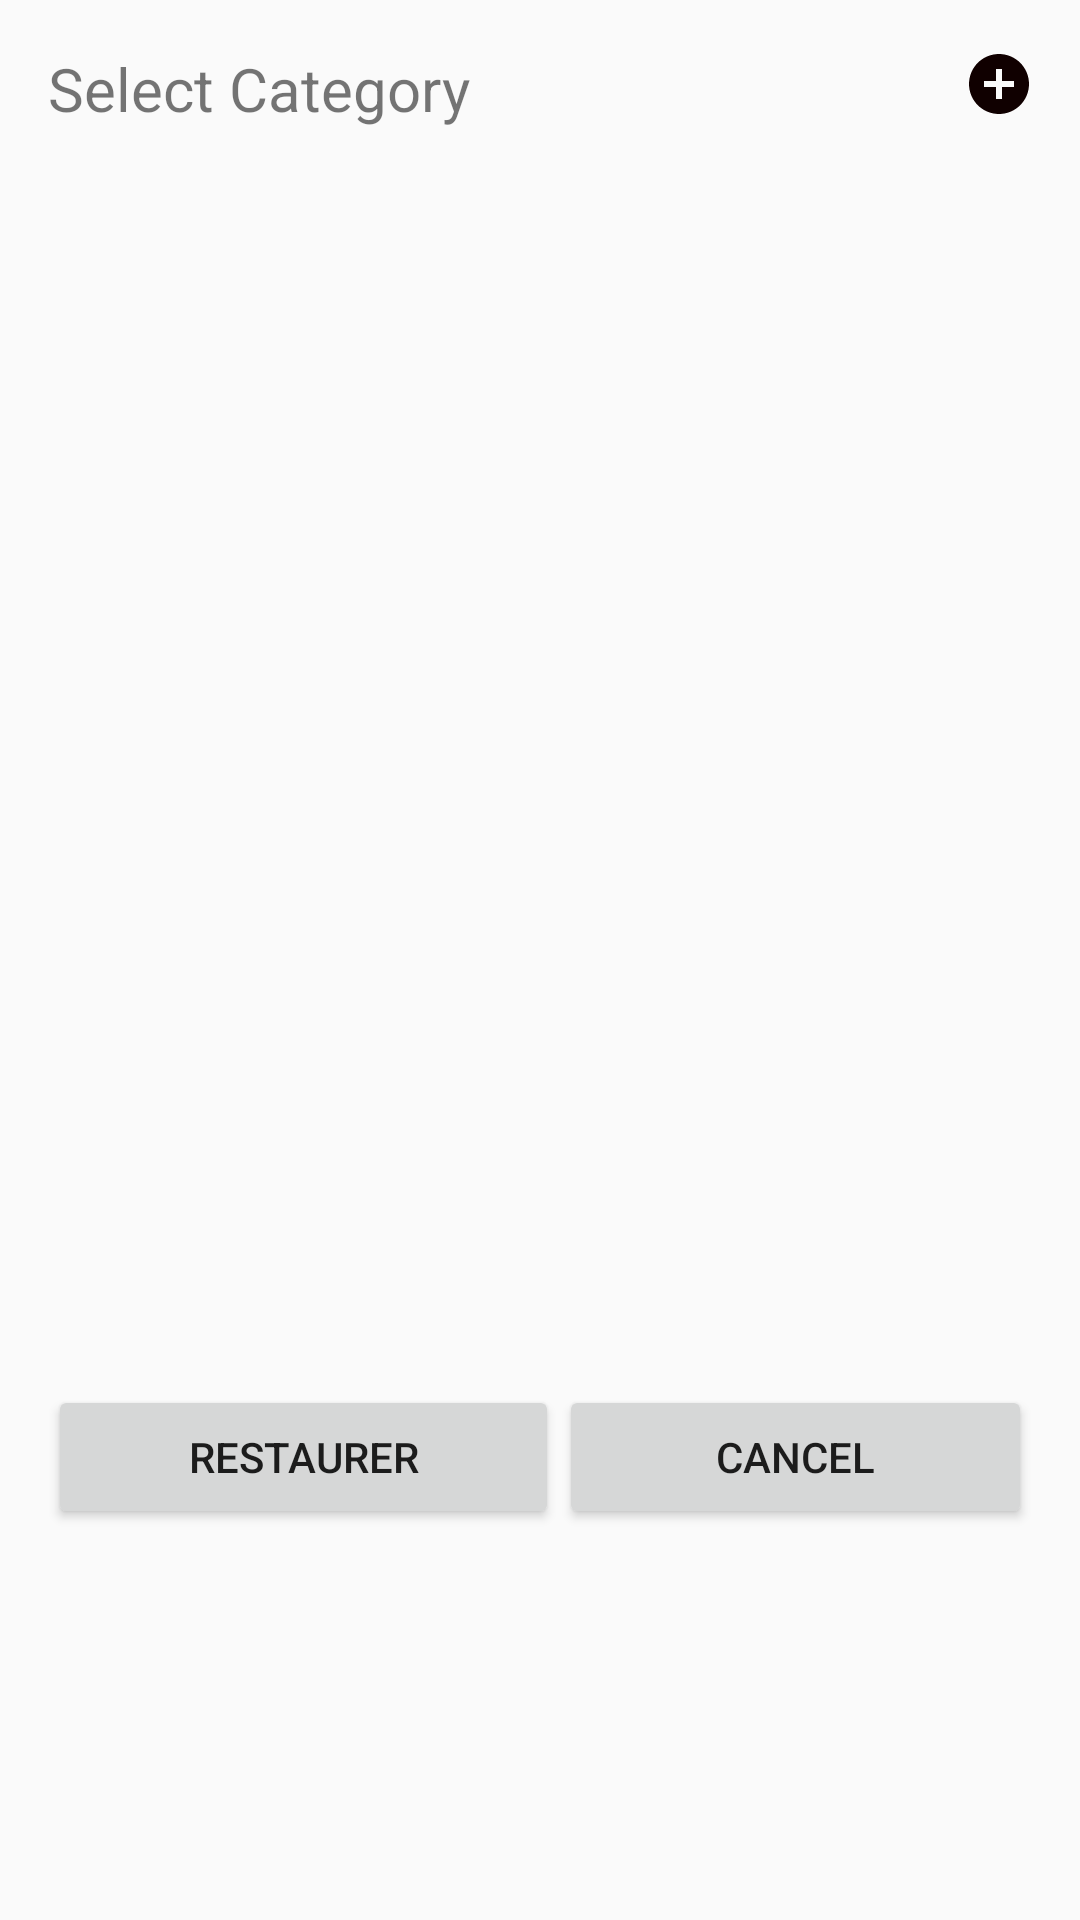

Screen size 1080x1920. Icon name, then its box in pixels as (x1, y1, x2, y2):
add circle: (969, 54, 1029, 114)
